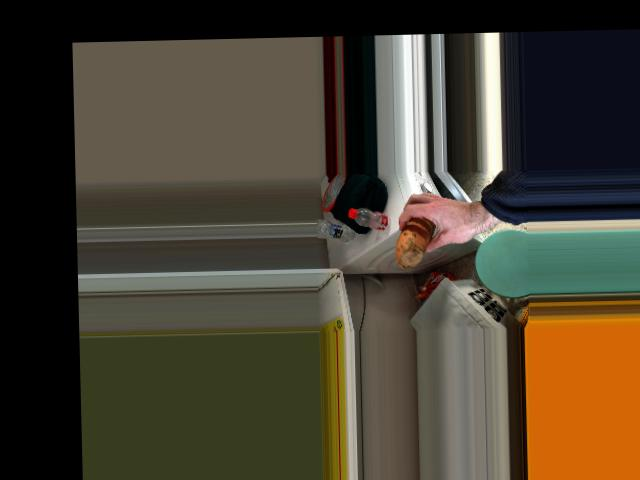sweet_potato: (394, 217, 435, 258)
